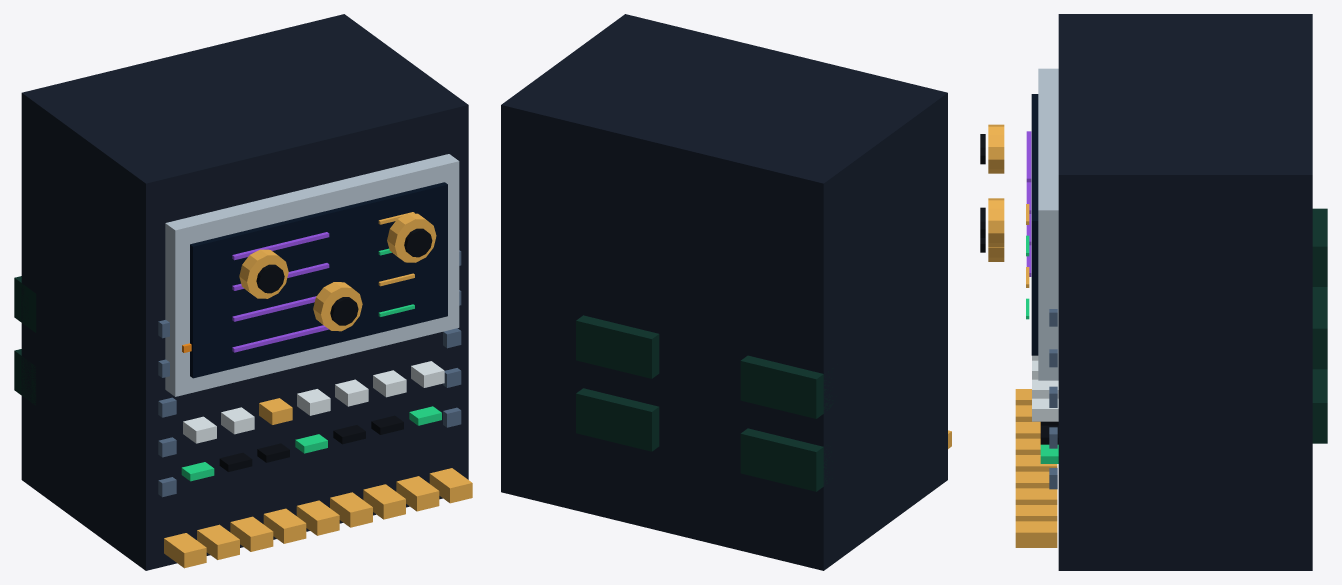
File: 41_L91_PhotonEventBufferB.fbx
3 renders of one model, left to right at view 1: azimuth 30°, elevation 25°; view 2: azimuth 150°, elevation 25°; view 3: azimuth 270°, elevation 25°, orthographic. The views are drawn at different scales.
Parts seen in each view (by area): view 1: L91_PhotonEventBufferB, L91_PhotonEventBufferB_Part_0016, L91_PhotonEventBufferB_Part_0014, L91_PhotonEventBufferB_Part_0012, L91_PhotonEventBufferB_Part_0017, L91_PhotonEventBufferB_Part_0013, L91_PhotonEventBufferB_Part_0015; view 2: L91_PhotonEventBufferB; view 3: L91_PhotonEventBufferB, L91_PhotonEventBufferB_Part_0012, L91_PhotonEventBufferB_Part_0016.
Boxes of the visible parts, bbox=[...] form: L91_PhotonEventBufferB: bbox=[14, 14, 472, 570]; L91_PhotonEventBufferB_Part_0016: bbox=[387, 213, 436, 262]; L91_PhotonEventBufferB_Part_0014: bbox=[313, 282, 362, 331]; L91_PhotonEventBufferB_Part_0012: bbox=[239, 249, 288, 298]; L91_PhotonEventBufferB_Part_0017: bbox=[404, 228, 432, 257]; L91_PhotonEventBufferB_Part_0013: bbox=[256, 264, 284, 293]; L91_PhotonEventBufferB_Part_0015: bbox=[330, 297, 358, 325]; L91_PhotonEventBufferB: bbox=[501, 14, 951, 570]; L91_PhotonEventBufferB: bbox=[1015, 14, 1327, 570]; L91_PhotonEventBufferB_Part_0012: bbox=[988, 124, 1004, 173]; L91_PhotonEventBufferB_Part_0016: bbox=[988, 198, 1004, 247].
Bounding box in the file's own units: 100 × 115 × 91.63.
